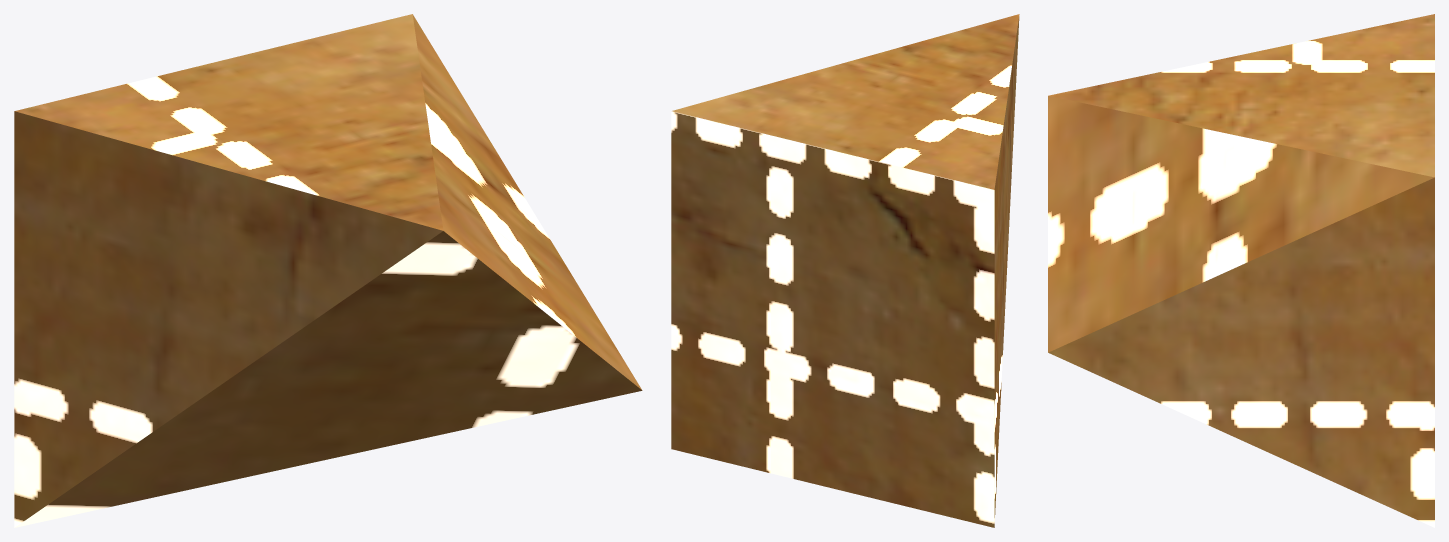
Rendered from block-ramp-corner-sw.glb.
3 views of the same model, side by side, from view 1: azimuth 30°, elevation 25°; view 2: azimuth 150°, elevation 25°; view 3: azimuth 270°, elevation 25° (orthographic). The views are drawn at different scales.
Visible parts, largest first — view 1: Block-Ramp-Corner-Sw*; view 2: Block-Ramp-Corner-Sw*; view 3: Block-Ramp-Corner-Sw*.
Part boxes in pixels (x1,y1,x2,y2): Block-Ramp-Corner-Sw*: (14, 14, 642, 527); Block-Ramp-Corner-Sw*: (671, 14, 1019, 527); Block-Ramp-Corner-Sw*: (1048, 14, 1434, 527).
Size of the model in its own units: 2 by 2 by 2.
Materials: 1 (1 with a texture image).
